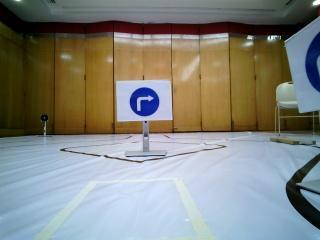right: (117, 81, 174, 122)
